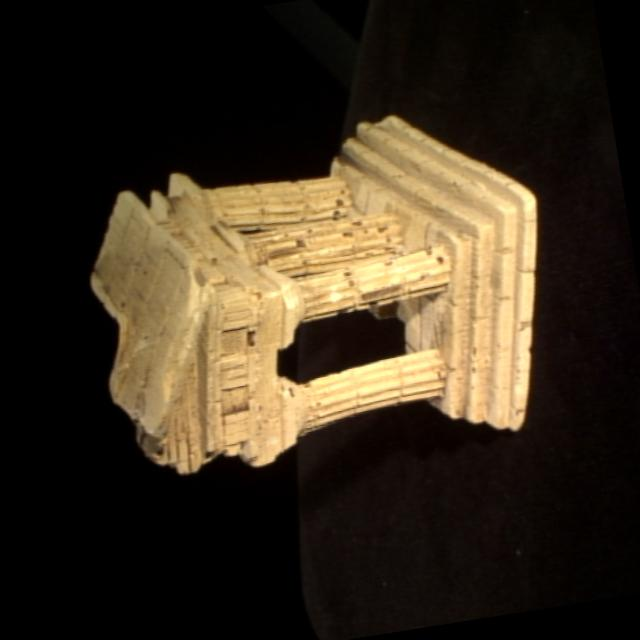Instance-Segmentation: (91, 115, 536, 472)
